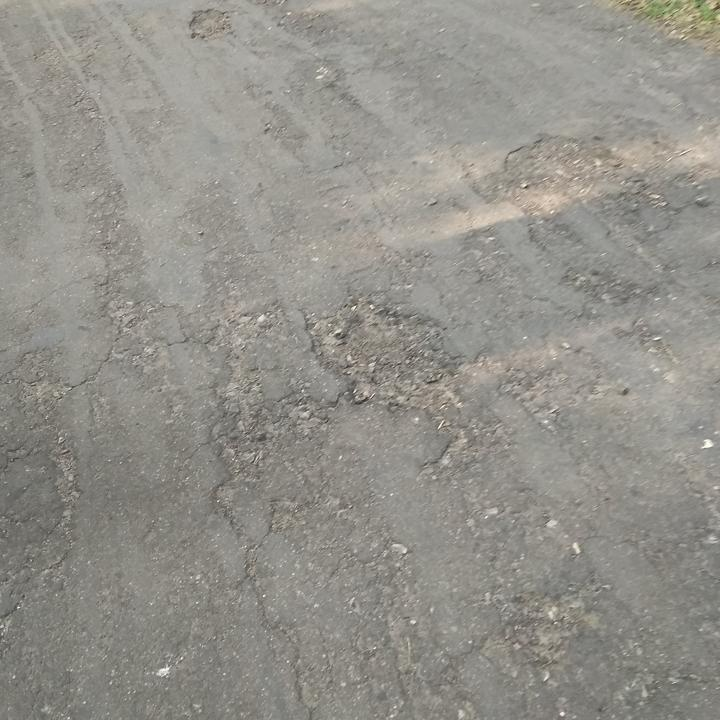pothole: (318, 296, 472, 416), (499, 131, 624, 191), (183, 4, 238, 44)
